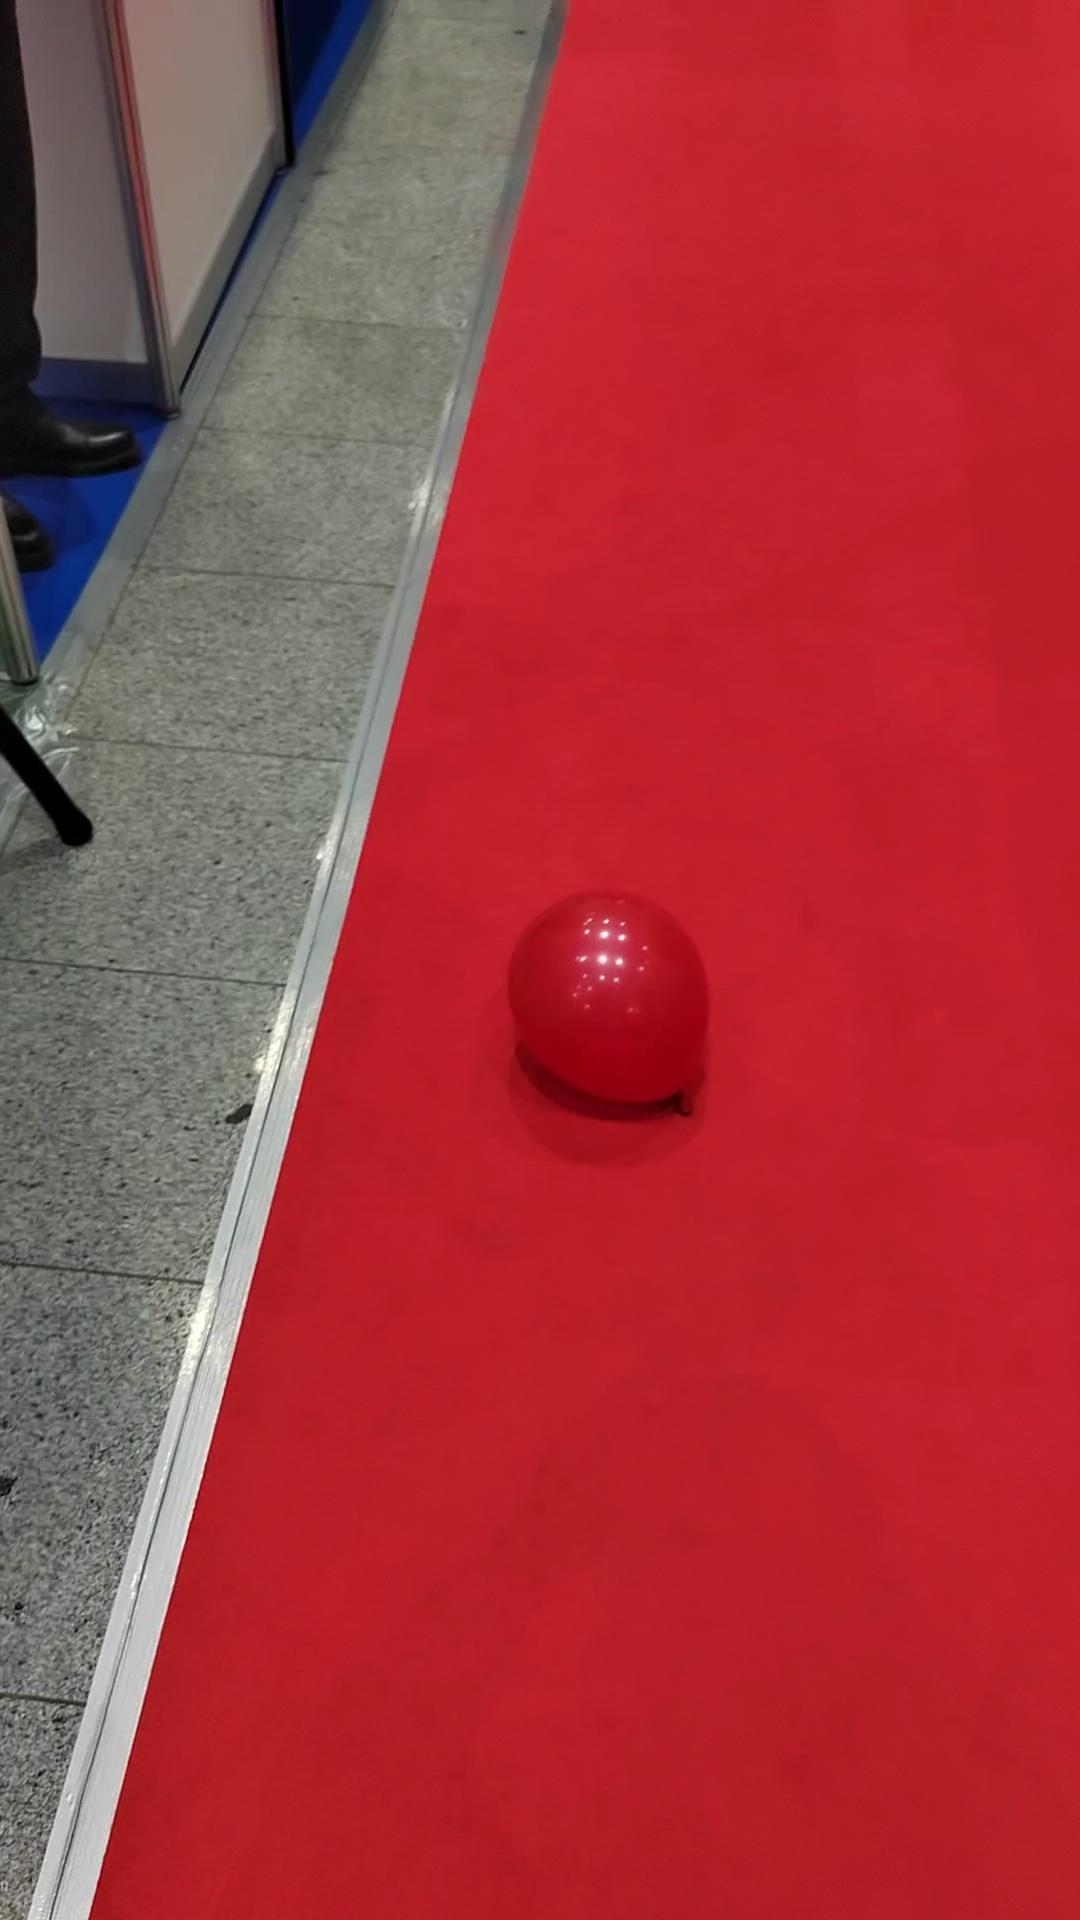red: (509, 891, 709, 1108)
